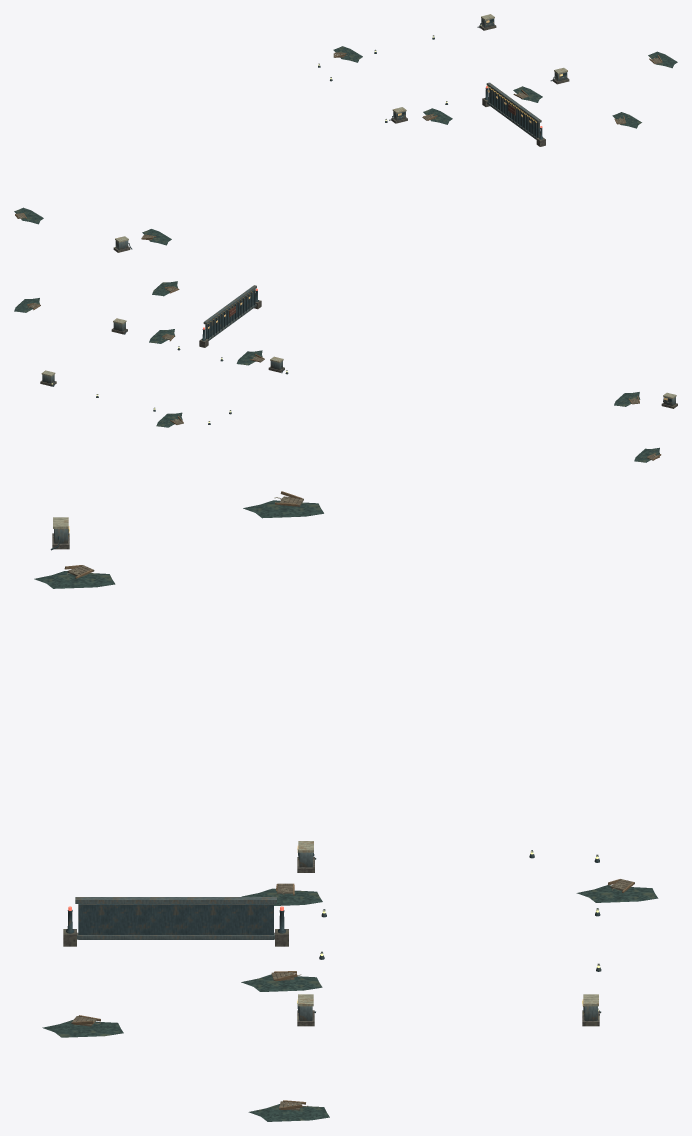
Rendered from sturm.glb.
The picture shows the model from 3 angles, top to bottom: view 1: azimuth 30°, elevation 25°; view 2: azimuth 150°, elevation 25°; view 3: azimuth 270°, elevation 25°; orthographic projection. The views are drawn at different scales.
Parts seen in each view (by area): view 1: Nasse Geröllspuren und Relais, HighWaterGate; view 2: Nasse Geröllspuren und Relais, HighWaterGate; view 3: Nasse Geröllspuren und Relais, HighWaterGate.
Boxes of the visible parts, <box> form: Nasse Geröllspuren und Relais: <box>14,14,677,245</box>; HighWaterGate: <box>486,82,541,139</box>; Nasse Geröllspuren und Relais: <box>14,281,659,462</box>; HighWaterGate: <box>203,285,256,340</box>; Nasse Geröllspuren und Relais: <box>34,500,658,1121</box>; HighWaterGate: <box>75,897,276,939</box>.
Size of the model in its own units: 65.44 by 2.26 by 27.68.
19 materials, 11 textured.
